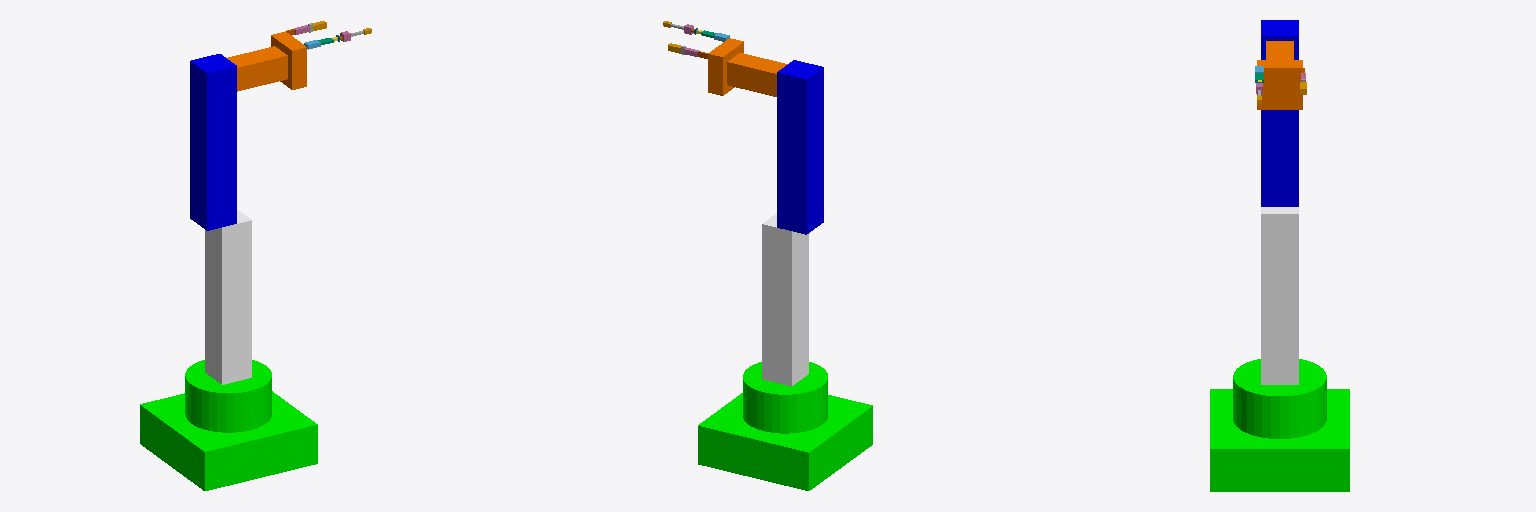
The robot description file, URDF, robot "robot":
<?xml version='1.0' encoding='utf-8'?>
<robot name="robot">
  <link name="base_link">
    <visual>
      <origin xyz="0 0 0.125" rpy="0 0 0" />
      <geometry>
        <box size="0.75 0.75 0.25" />
      </geometry>
      <material name="green" />
    </visual>
    <visual>
      <origin xyz="0 0 0.375" rpy="0 0 0" />
      <geometry>
        <cylinder length="0.25" radius="0.25" />
      </geometry>
      <material name="green">
        <color rgba="0 1 0 1" />
      </material>
    </visual>
    <collision>
      <geometry>
        <box size="0.75 0.75 0.5" />
      </geometry>
    </collision>
    <inertial>
      <mass value="0.5" />
      <inertia ixx="0.034" ixy="0.0" ixz="0.0" iyy="0.034" iyz="0.0" izz="0.034" />
    </inertial>
  </link>
  <link name="support_link">
    <visual>
      <origin xyz="0 0 0.5" rpy="0 0 0" />
      <geometry>
        <box size="0.2 0.2 1" />
      </geometry>
      <material name="white">
        <color rgba="1 1 1 1" />
      </material>
    </visual>
    <collision>
      <geometry>
        <box size="0.2 0.2 1" />
      </geometry>
    </collision>
    <inertial>
      <mass value="0.1" />
      <inertia ixx="0.01" ixy="0.0" ixz="0.0" iyy="0.01" iyz="0.0" izz="0.01" />
    </inertial>
  </link>
  <joint name="support_joint" type="continuous">
    <origin xyz="0 0 0.5" rpy="0 0 0" />
    <parent link="base_link" />
    <child link="support_link" />
    <axis xyz="0 0 1" />
  </joint>
  <link name="arm_link">
    <visual>
      <origin xyz="0 0 0.5" rpy="0 0 0" />
      <geometry>
        <box size="0.2 0.2 1" />
      </geometry>
      <material name="blue">
        <color rgba="0 0 1 1" />
      </material>
    </visual>
    <collision>
      <geometry>
        <box size="0.2 0.2 1" />
      </geometry>
    </collision>
    <inertial>
      <mass value="0.1" />
      <inertia ixx="0.01" ixy="0.0" ixz="0.0" iyy="0.01" iyz="0.0" izz="0.01" />
    </inertial>
  </link>
  <joint name="arm_joint" type="revolute">
    <origin xyz="-0.1 0 1" rpy="0 0 0" />
    <parent link="support_link" />
    <child link="arm_link" />
    <axis xyz="0 1 0" />
    <limit lower="-3.14" upper="3.14" effort="1.0" velocity="1.0" />
  </joint>
  <link name="wrist_link">
    <visual>
      <origin xyz="0 0 0.25" rpy="0 0 0" />
      <geometry>
        <box size="0.15 0.15 0.5" />
      </geometry>
      <material name="orange">
        <color rgba="1 0.5 0 1" />
      </material>
    </visual>
    <collision>
      <geometry>
        <box size="0.15 0.15 0.5" />
      </geometry>
    </collision>
    <inertial>
      <mass value="0.1" />
      <inertia ixx="0.01" ixy="0.0" ixz="0.0" iyy="0.01" iyz="0.0" izz="0.01" />
    </inertial>
  </link>
  <joint name="wrist_joint" type="fixed">
    <origin xyz="0 0 0.9" rpy="0 1.571 0" />
    <parent link="arm_link" />
    <child link="wrist_link" />
  </joint>
  <link name="palm_link">
    <visual>
      <origin xyz="0 0 0.05" rpy="0 0 0" />
      <geometry>
        <box size="0.25 0.25 0.1" />
      </geometry>
      <material name="orange" />
    </visual>
    <collision>
      <geometry>
        <box size="0.25 0.25 0.1" />
      </geometry>
    </collision>
    <inertial>
      <mass value="0.1" />
      <inertia ixx="0.01" ixy="0.0" ixz="0.0" iyy="0.01" iyz="0.0" izz="0.01" />
    </inertial>
  </link>
  <joint name="palm_joint" type="fixed">
    <origin xyz="0 0 0.45" rpy="0 0 0" />
    <parent link="wrist_link" />
    <child link="palm_link" />
  </joint>
  <link name="link_0_0">
    <visual>
      <origin xyz="0 0 0.0305" rpy="0 0 0" />
      <geometry>
        <box size="0.034 0.011 0.061" />
      </geometry>
    </visual>
    <collision>
      <geometry>
        <box size="0.034 0.011 0.061" />
      </geometry>
    </collision>
    <inertial>
      <mass value="0.007" />
      <inertia ixx="0.0" iyy="0.0" izz="0.0" ixy="0" ixz="0" iyz="0" />
    </inertial>
  </link>
  <joint name="joint_palm_link_to_link_0_0" type="revolute">
    <origin xyz="-0.108 0.125 0.1" rpy="0 0 0" />
    <parent link="palm_link" />
    <child link="link_0_0" />
    <axis xyz="0.029 0.759 0.953" />
    <limit lower="-3.142" upper="3.142" effort="10" velocity="10" />
  </joint>
  <link name="link_0_1">
    <visual>
      <origin xyz="0 0 0.0465" rpy="0 0 0" />
      <geometry>
        <box size="0.032 0.028 0.093" />
      </geometry>
    </visual>
    <collision>
      <geometry>
        <box size="0.032 0.028 0.093" />
      </geometry>
    </collision>
    <inertial>
      <mass value="0.025" />
      <inertia ixx="0.0" iyy="0.0" izz="0.0" ixy="0" ixz="0" iyz="0" />
    </inertial>
  </link>
  <joint name="joint_link_0_0_to_link_0_1" type="revolute">
    <origin xyz="0.0 0.0 0.061" rpy="0 0 0" />
    <parent link="link_0_0" />
    <child link="link_0_1" />
    <axis xyz="0.302 0.435 0.624" />
    <limit lower="-3.142" upper="3.142" effort="10" velocity="10" />
  </joint>
  <link name="link_0_2">
    <visual>
      <origin xyz="0 0 0.0105" rpy="0 0 0" />
      <geometry>
        <box size="0.049 0.017 0.021" />
      </geometry>
    </visual>
    <collision>
      <geometry>
        <box size="0.049 0.017 0.021" />
      </geometry>
    </collision>
    <inertial>
      <mass value="0.005" />
      <inertia ixx="0.0" iyy="0.0" izz="0.0" ixy="0" ixz="0" iyz="0" />
    </inertial>
  </link>
  <joint name="joint_link_0_1_to_link_0_2" type="revolute">
    <origin xyz="0.0 0.0 0.093" rpy="0 0 0" />
    <parent link="link_0_1" />
    <child link="link_0_2" />
    <axis xyz="0.686 0.079 0.998" />
    <limit lower="-3.142" upper="3.142" effort="10" velocity="10" />
  </joint>
  <link name="link_0_3">
    <visual>
      <origin xyz="0 0 0.044" rpy="0 0 0" />
      <geometry>
        <box size="0.036 0.033 0.088" />
      </geometry>
    </visual>
    <collision>
      <geometry>
        <box size="0.036 0.033 0.088" />
      </geometry>
    </collision>
    <inertial>
      <mass value="0.031" />
      <inertia ixx="0.0" iyy="0.0" izz="0.0" ixy="0" ixz="0" iyz="0" />
    </inertial>
  </link>
  <joint name="joint_link_0_2_to_link_0_3" type="revolute">
    <origin xyz="0.0 0.0 0.021" rpy="0 0 0" />
    <parent link="link_0_2" />
    <child link="link_0_3" />
    <axis xyz="0.386 0.725 0.947" />
    <limit lower="-3.142" upper="3.142" effort="10" velocity="10" />
  </joint>
  <link name="link_1_0">
    <visual>
      <origin xyz="0 0 0.042" rpy="0 0 0" />
      <geometry>
        <box size="0.027 0.044 0.084" />
      </geometry>
    </visual>
    <collision>
      <geometry>
        <box size="0.027 0.044 0.084" />
      </geometry>
    </collision>
    <inertial>
      <mass value="0.03" />
      <inertia ixx="0.0" iyy="0.0" izz="0.0" ixy="0" ixz="0" iyz="0" />
    </inertial>
  </link>
  <joint name="joint_palm_link_to_link_1_0" type="revolute">
    <origin xyz="-0.125 -0.109 0.1" rpy="0 0 0" />
    <parent link="palm_link" />
    <child link="link_1_0" />
    <axis xyz="0.023 0.625 0.182" />
    <limit lower="-3.142" upper="3.142" effort="10" velocity="10" />
  </joint>
  <link name="link_1_1">
    <visual>
      <origin xyz="0 0 0.0445" rpy="0 0 0" />
      <geometry>
        <box size="0.015 0.043 0.089" />
      </geometry>
    </visual>
    <collision>
      <geometry>
        <box size="0.015 0.043 0.089" />
      </geometry>
    </collision>
    <inertial>
      <mass value="0.017" />
      <inertia ixx="0.0" iyy="0.0" izz="0.0" ixy="0" ixz="0" iyz="0" />
    </inertial>
  </link>
  <joint name="joint_link_1_0_to_link_1_1" type="revolute">
    <origin xyz="0.0 0.0 0.084" rpy="0 0 0" />
    <parent link="link_1_0" />
    <child link="link_1_1" />
    <axis xyz="0.737 0.789 0.967" />
    <limit lower="-3.142" upper="3.142" effort="10" velocity="10" />
  </joint>
  <link name="link_1_2">
    <visual>
      <origin xyz="0 0 0.0175" rpy="0 0 0" />
      <geometry>
        <box size="0.017 0.021 0.035" />
      </geometry>
    </visual>
    <collision>
      <geometry>
        <box size="0.017 0.021 0.035" />
      </geometry>
    </collision>
    <inertial>
      <mass value="0.004" />
      <inertia ixx="0.0" iyy="0.0" izz="0.0" ixy="0" ixz="0" iyz="0" />
    </inertial>
  </link>
  <joint name="joint_link_1_1_to_link_1_2" type="revolute">
    <origin xyz="0.0 0.0 0.089" rpy="0 0 0" />
    <parent link="link_1_1" />
    <child link="link_1_2" />
    <axis xyz="0.267 0.629 0.264" />
    <limit lower="-3.142" upper="3.142" effort="10" velocity="10" />
  </joint>
  <link name="link_1_3">
    <visual>
      <origin xyz="0 0 0.0055" rpy="0 0 0" />
      <geometry>
        <box size="0.03 0.029 0.011" />
      </geometry>
    </visual>
    <collision>
      <geometry>
        <box size="0.03 0.029 0.011" />
      </geometry>
    </collision>
    <inertial>
      <mass value="0.003" />
      <inertia ixx="0.0" iyy="0.0" izz="0.0" ixy="0" ixz="0" iyz="0" />
    </inertial>
  </link>
  <joint name="joint_link_1_2_to_link_1_3" type="revolute">
    <origin xyz="0.0 0.0 0.035" rpy="0 0 0" />
    <parent link="link_1_2" />
    <child link="link_1_3" />
    <axis xyz="0.816 0.611 0.502" />
    <limit lower="-3.142" upper="3.142" effort="10" velocity="10" />
  </joint>
  <link name="link_1_4">
    <visual>
      <origin xyz="0 0 0.0105" rpy="0 0 0" />
      <geometry>
        <box size="0.013 0.029 0.021" />
      </geometry>
    </visual>
    <collision>
      <geometry>
        <box size="0.013 0.029 0.021" />
      </geometry>
    </collision>
    <inertial>
      <mass value="0.002" />
      <inertia ixx="0.0" iyy="0.0" izz="0.0" ixy="0" ixz="0" iyz="0" />
    </inertial>
  </link>
  <joint name="joint_link_1_3_to_link_1_4" type="revolute">
    <origin xyz="0.0 0.0 0.011" rpy="0 0 0" />
    <parent link="link_1_3" />
    <child link="link_1_4" />
    <axis xyz="0.21 0.302 0.016" />
    <limit lower="-3.142" upper="3.142" effort="10" velocity="10" />
  </joint>
  <link name="link_1_5">
    <visual>
      <origin xyz="0 0 0.023" rpy="0 0 0" />
      <geometry>
        <box size="0.045 0.038 0.046" />
      </geometry>
    </visual>
    <collision>
      <geometry>
        <box size="0.045 0.038 0.046" />
      </geometry>
    </collision>
    <inertial>
      <mass value="0.024" />
      <inertia ixx="0.0" iyy="0.0" izz="0.0" ixy="0" ixz="0" iyz="0" />
    </inertial>
  </link>
  <joint name="joint_link_1_4_to_link_1_5" type="revolute">
    <origin xyz="0.0 0.0 0.021" rpy="0 0 0" />
    <parent link="link_1_4" />
    <child link="link_1_5" />
    <axis xyz="0.704 0.277 0.957" />
    <limit lower="-3.142" upper="3.142" effort="10" velocity="10" />
  </joint>
  <link name="link_1_6">
    <visual>
      <origin xyz="0 0 0.0485" rpy="0 0 0" />
      <geometry>
        <box size="0.012 0.018 0.097" />
      </geometry>
    </visual>
    <collision>
      <geometry>
        <box size="0.012 0.018 0.097" />
      </geometry>
    </collision>
    <inertial>
      <mass value="0.006" />
      <inertia ixx="0.0" iyy="0.0" izz="0.0" ixy="0" ixz="0" iyz="0" />
    </inertial>
  </link>
  <joint name="joint_link_1_5_to_link_1_6" type="revolute">
    <origin xyz="0.0 0.0 0.046" rpy="0 0 0" />
    <parent link="link_1_5" />
    <child link="link_1_6" />
    <axis xyz="0.379 0.104 0.428" />
    <limit lower="-3.142" upper="3.142" effort="10" velocity="10" />
  </joint>
  <link name="link_1_7">
    <visual>
      <origin xyz="0 0 0.025" rpy="0 0 0" />
      <geometry>
        <box size="0.026 0.027 0.05" />
      </geometry>
    </visual>
    <collision>
      <geometry>
        <box size="0.026 0.027 0.05" />
      </geometry>
    </collision>
    <inertial>
      <mass value="0.011" />
      <inertia ixx="0.0" iyy="0.0" izz="0.0" ixy="0" ixz="0" iyz="0" />
    </inertial>
  </link>
  <joint name="joint_link_1_6_to_link_1_7" type="revolute">
    <origin xyz="0.0 0.0 0.097" rpy="0 0 0" />
    <parent link="link_1_6" />
    <child link="link_1_7" />
    <axis xyz="0.68 0.999 0.917" />
    <limit lower="-3.142" upper="3.142" effort="10" velocity="10" />
  </joint>
</robot>

--- Render facts (derived) ---
Views: 3 orthographic renders of the robot side by side, from view 1: azimuth 30°, elevation 25°; view 2: azimuth 150°, elevation 25°; view 3: azimuth 270°, elevation 25°.
Model robot with 17 links and 16 joints (13 revolute, 1 continuous, 2 fixed), rooted at base_link, posed all joints at 0.
Links seen in each view (by area): view 1: base_link, arm_link, support_link, wrist_link, palm_link; view 2: base_link, arm_link, support_link, wrist_link, palm_link; view 3: base_link, support_link, arm_link, palm_link, wrist_link.
Boxes of the visible links, x1,y1,x2,y2 form: base_link: [140, 360, 317, 490]; arm_link: [190, 54, 236, 230]; support_link: [205, 209, 251, 384]; wrist_link: [227, 46, 287, 91]; palm_link: [271, 31, 306, 89]; base_link: [698, 362, 872, 490]; arm_link: [777, 60, 823, 234]; support_link: [762, 214, 808, 386]; wrist_link: [727, 53, 787, 96]; palm_link: [708, 38, 743, 95]; base_link: [1210, 359, 1349, 491]; support_link: [1261, 207, 1298, 384]; arm_link: [1261, 20, 1298, 206]; palm_link: [1257, 60, 1302, 109]; wrist_link: [1266, 41, 1293, 59].
Size in the robot's own frame: 1.26 by 0.75 by 2.55 metres.
Geometry: primitives only (box / cylinder / sphere), no mesh files.